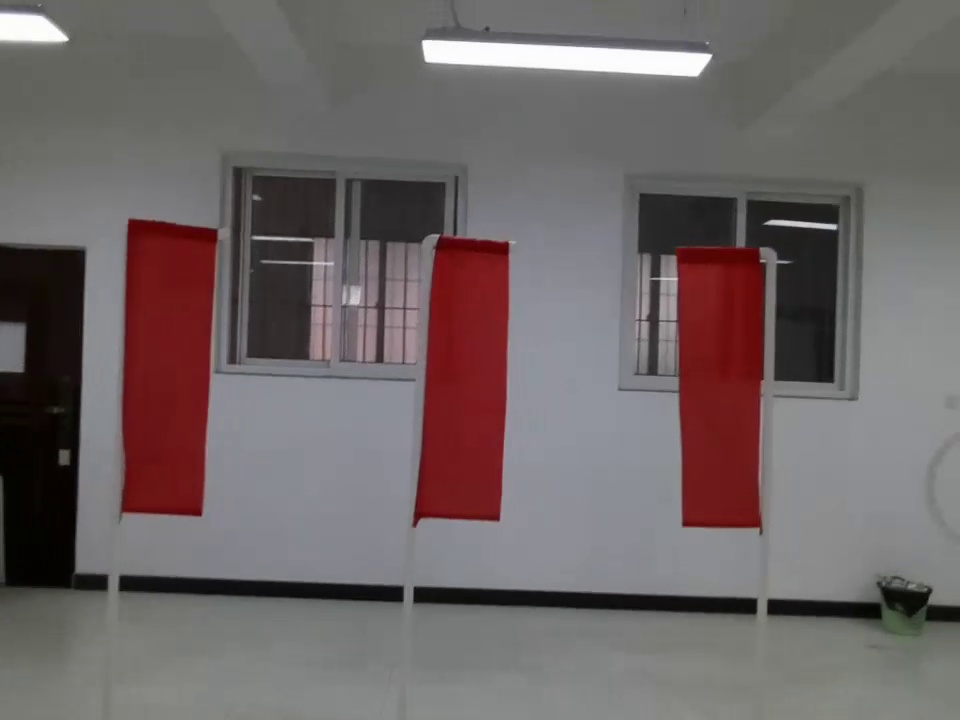qi: (114, 217, 225, 551), (667, 244, 773, 542), (426, 225, 509, 537)
